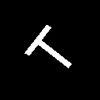half_double_crochet: (25, 25, 70, 67)
